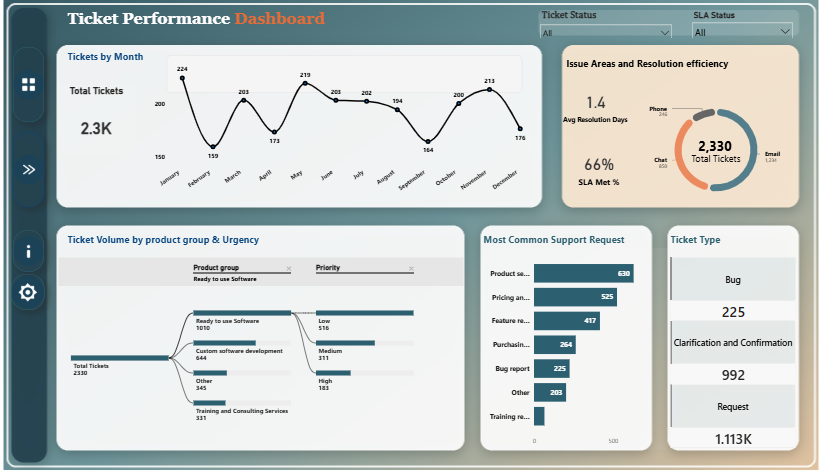

This screenshot's page, from the dashboard's own definition file:
{"tool":"powerbi","page":{"name":"Dashboard","canvas":[1835,1000],"ordinal":0},"visuals":[{"type":"lineChart","fields":{"Category":["Technical Support Dataset.Created time.Variation.Date Hierarchy.Month"],"Y":["Technical Support Dataset.Total Tickets"]},"box":[398,134,768,294],"z":0},{"type":"advanceCardE03760C5AB684758B56AA29F9E6C257B","title":"Total Tickets","fields":{"mainMeasure":["Technical Support Dataset.Total Tickets"]},"box":[208,196,162,140],"z":1000},{"type":"decompositionTreeVisual","fields":{"Analyze":["Technical Support Dataset.Total Tickets"],"ExplainBy":["Technical Support Dataset.Product group","Technical Support Dataset.Priority"]},"box":[208,536,820,390],"z":2000},{"type":"actionButton","box":[0,0,100,40],"z":3000},{"type":"donutE4A86F3675B84D178C45F7E034E25D6A","title":" ","fields":{"key":["Technical Support Dataset.Source"],"metric":["Technical Support Dataset.Total Tickets"]},"box":[1364,180,328,262],"z":4000},{"type":"advanceCardE03760C5AB684758B56AA29F9E6C257B","fields":{"mainMeasure":["Technical Support Dataset.Avg Resolution Days"]},"box":[1210,180,154,124],"z":5000},{"type":"advanceCardE03760C5AB684758B56AA29F9E6C257B","fields":{"mainMeasure":["Technical Support Dataset.SLA Met %"]},"box":[1224,304,140,124],"z":6000},{"type":"barChart","fields":{"Category":["Technical Support Dataset.Topic"],"Y":["Technical Support Dataset.Total Subjects"]},"box":[1058,522,374,404],"z":7000},{"type":"cardVisual","fields":{"Data":["Technical Support Dataset.Total Tickets"],"Rows":["Technical Support Dataset.Type"]},"box":[1431.1,535.6,260,391.1],"z":8000},{"type":"image","box":[122,120,62,150],"z":9000},{"type":"image","box":[122,290,62,150],"z":10000},{"type":"image","box":[122,486,62,84],"z":11000},{"type":"image","box":[118,574,67,72],"z":12000},{"type":"slicer","fields":{"Values":["Technical Support Dataset.Status"]},"box":[1166,40,284,62],"z":13000},{"type":"slicer","fields":{"Values":["Technical Support Dataset.SLA For Resolution"]},"box":[1470,40,222,62],"z":14000},{"type":"textbox","box":[1432,486,260,50],"z":15000},{"type":"textbox","box":[1058,486,346,66],"z":16000},{"type":"textbox","box":[226,486,774,66],"z":17000},{"type":"textbox","box":[1224,134,358,46],"z":18000},{"type":"textbox","box":[225.7,120,172.9,37.1],"z":19000},{"type":"textbox","box":[226,40,622,62],"z":20000}]}

Visuals, with their boxes on the page's 1835x1000 design canvas (x1, y1, x2, y2). These are canvas units, not pixel positions in the 819x470 screenshot, which may show the page scaled, cropped or inside an application window:
lineChart - Technical Support Dataset.Created time.Variation.Date Hierarchy.Month x Technical Support Dataset.Total Tickets: crop(398, 134, 1166, 428)
"Total Tickets" advanceCardE03760C5AB684758B56AA29F9E6C257B: crop(208, 196, 370, 336)
decompositionTreeVisual - Technical Support Dataset.Total Tickets x Technical Support Dataset.Product group: crop(208, 536, 1028, 926)
actionButton: crop(0, 0, 100, 40)
" " donutE4A86F3675B84D178C45F7E034E25D6A: crop(1364, 180, 1692, 442)
advanceCardE03760C5AB684758B56AA29F9E6C257B - Technical Support Dataset.Avg Resolution Days: crop(1210, 180, 1364, 304)
advanceCardE03760C5AB684758B56AA29F9E6C257B - Technical Support Dataset.SLA Met %: crop(1224, 304, 1364, 428)
barChart - Technical Support Dataset.Topic x Technical Support Dataset.Total Subjects: crop(1058, 522, 1432, 926)
cardVisual - Technical Support Dataset.Total Tickets x Technical Support Dataset.Type: crop(1431, 536, 1691, 927)
image: crop(122, 120, 184, 270)
image: crop(122, 290, 184, 440)
image: crop(122, 486, 184, 570)
image: crop(118, 574, 185, 646)
slicer - Technical Support Dataset.Status: crop(1166, 40, 1450, 102)
slicer - Technical Support Dataset.SLA For Resolution: crop(1470, 40, 1692, 102)
textbox: crop(1432, 486, 1692, 536)
textbox: crop(1058, 486, 1404, 552)
textbox: crop(226, 486, 1000, 552)
textbox: crop(1224, 134, 1582, 180)
textbox: crop(226, 120, 399, 157)
textbox: crop(226, 40, 848, 102)
